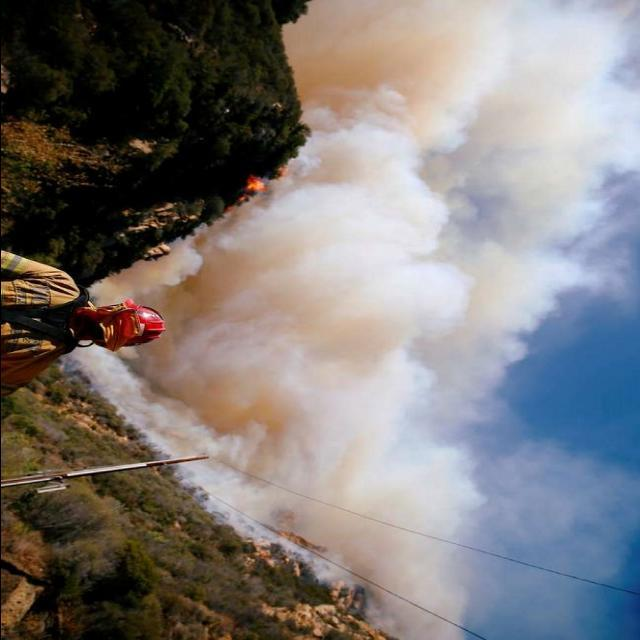Fire: (244, 175, 270, 191)
